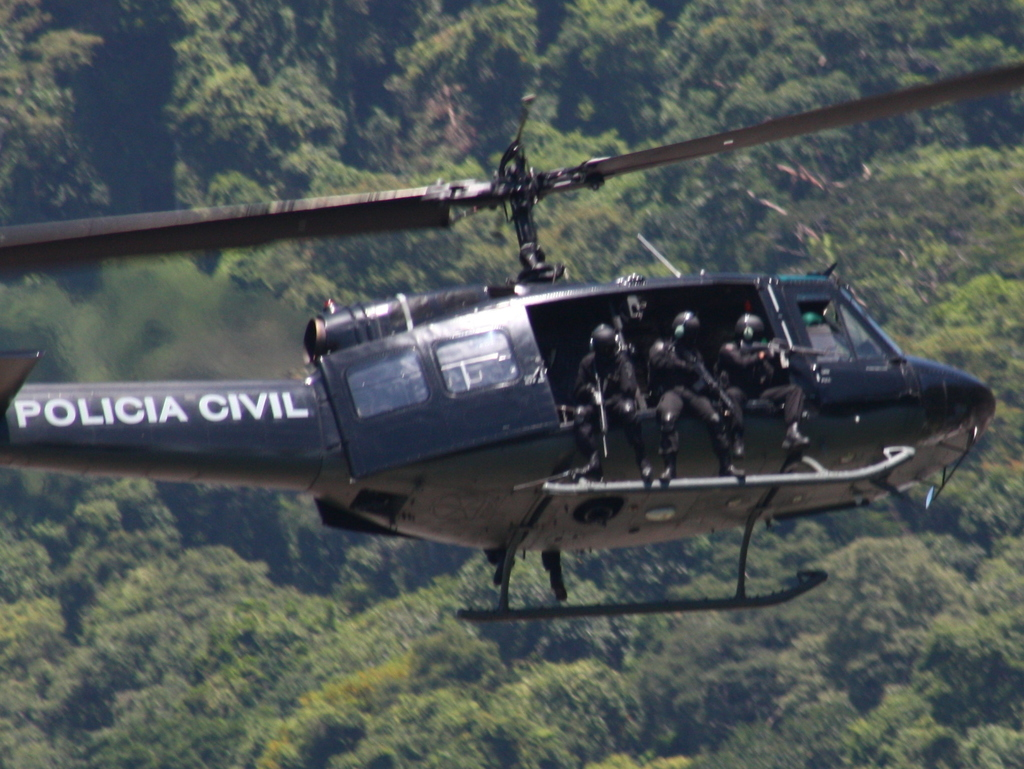person: (570, 322, 672, 484)
